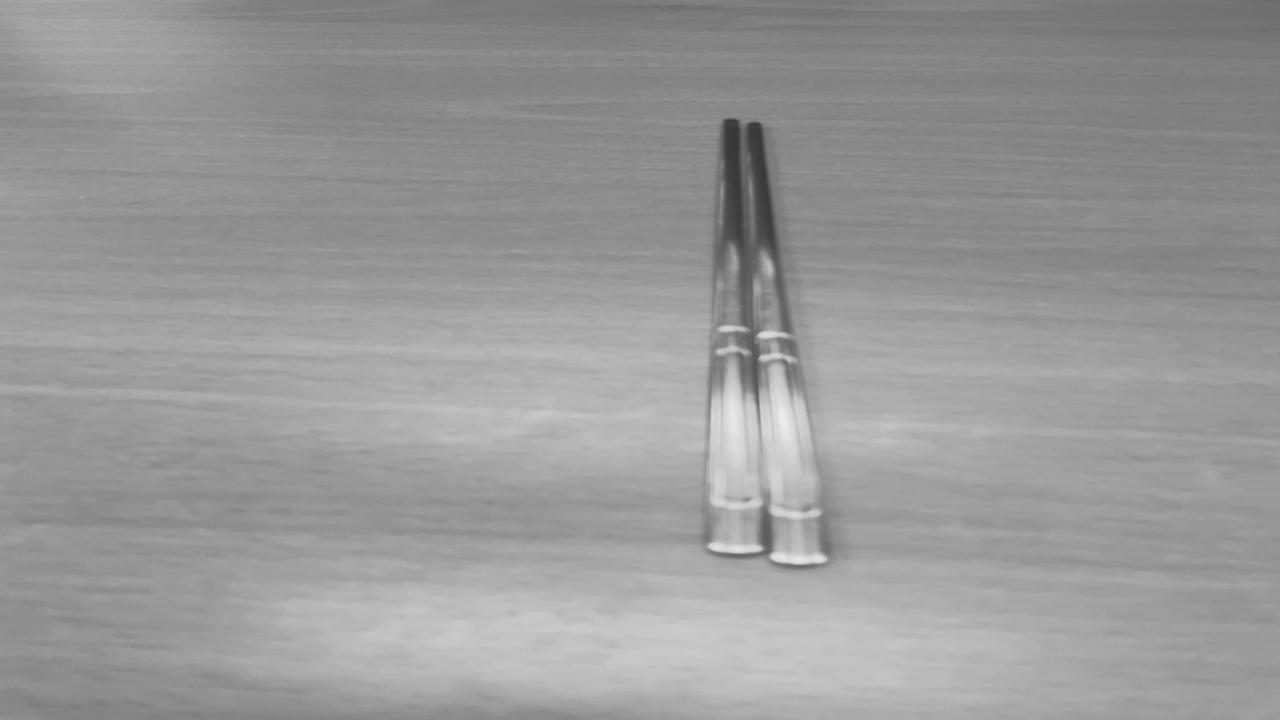chopstick: (712, 121, 828, 565)
